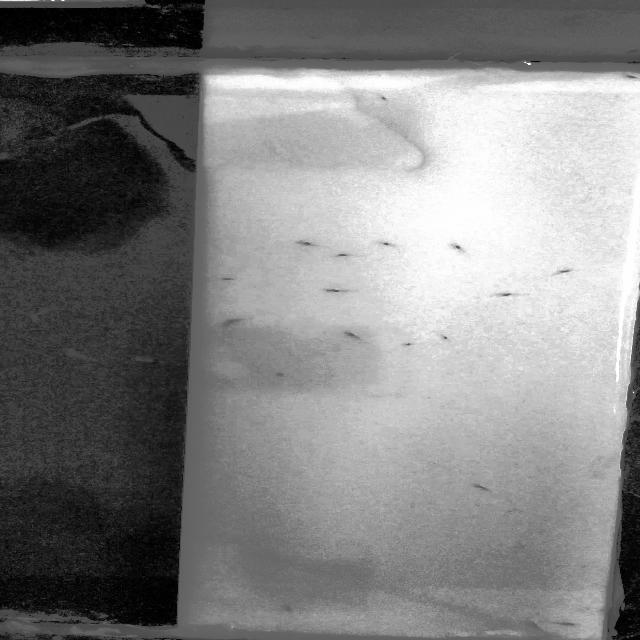shrimp: (213, 316, 252, 326), (340, 330, 370, 342), (522, 618, 546, 631), (295, 238, 326, 248), (496, 289, 530, 298), (554, 620, 580, 630), (335, 253, 372, 260), (325, 287, 360, 294), (377, 240, 403, 249), (278, 602, 300, 612), (434, 333, 456, 342), (477, 483, 494, 494), (552, 269, 578, 276), (404, 342, 421, 351), (448, 244, 464, 252), (222, 276, 238, 284), (377, 93, 391, 102), (270, 371, 288, 376)
